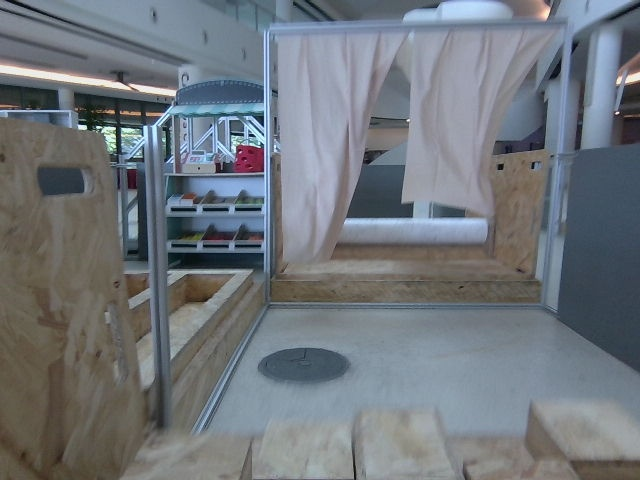curtain: (269, 14, 563, 259)
